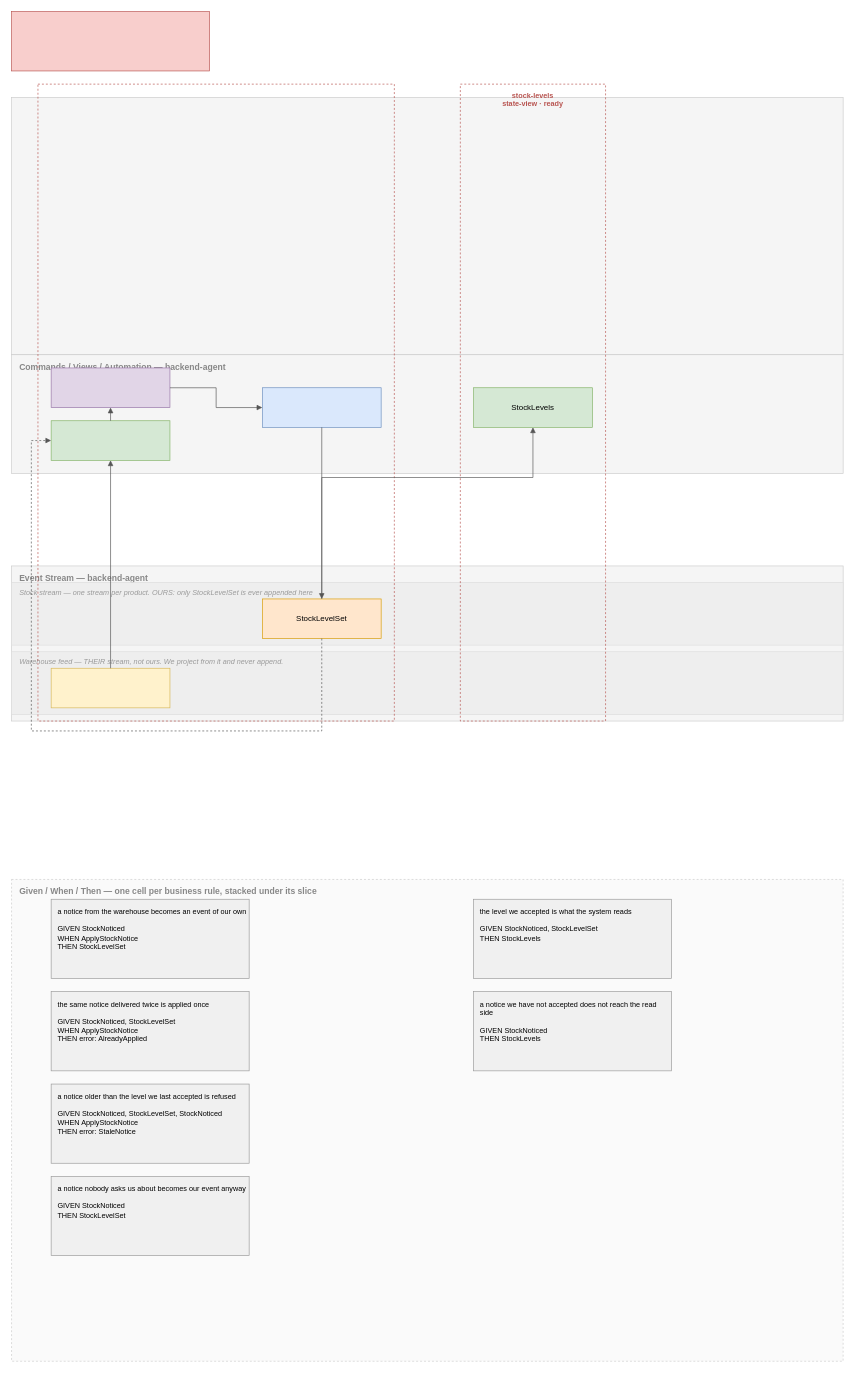
This 855x1373 diagram has some shape labels left out. Each missing label, with the centre of its shape:
ApplyStockNotice: point 321,407
Stock feed stock-feed · context: point 110,41
StockNoticed: point 110,688
StockNoticesToApply: point 110,440
StockTranslator: point 110,387
translate-stock-notice translation · ready: point 215,402
UI / Wireframes — frontend-agent: point 427,226
